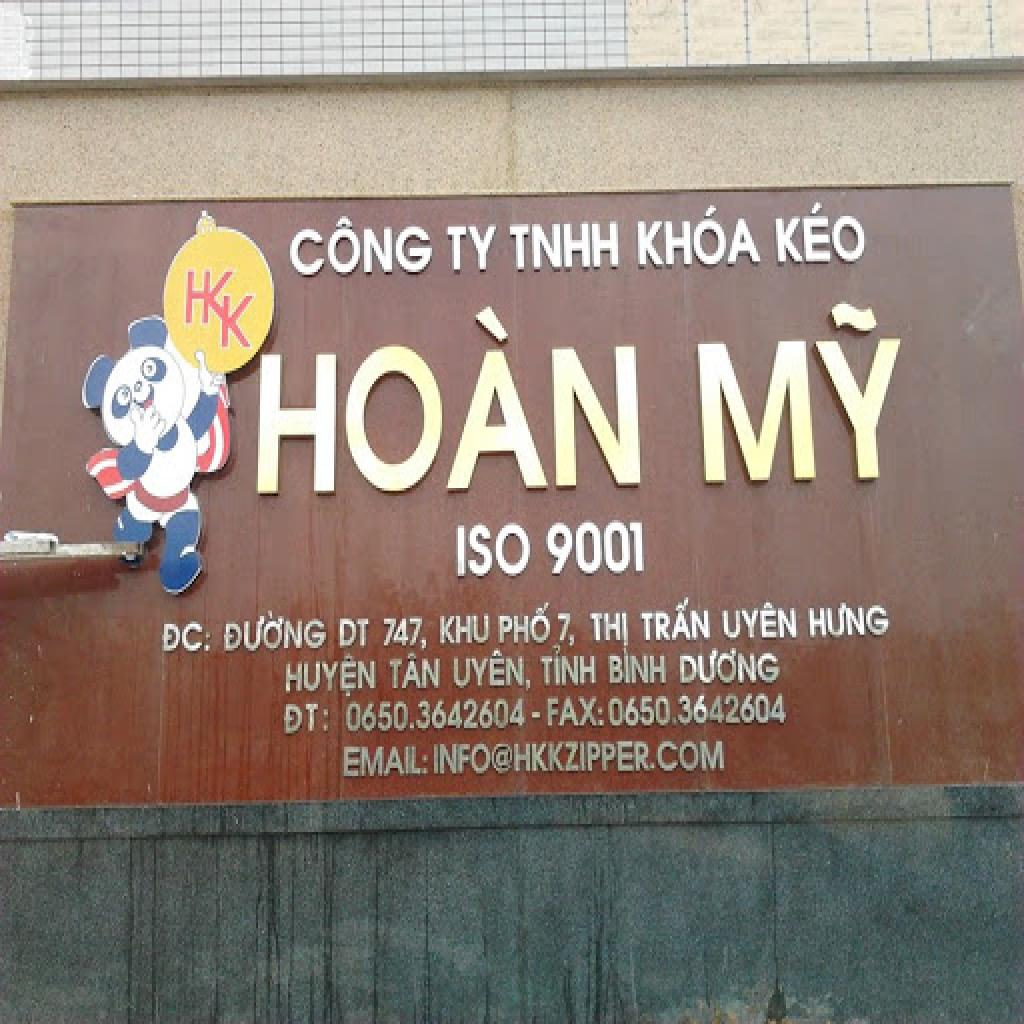text: (258, 301, 644, 499), (694, 296, 916, 488), (434, 741, 726, 776), (290, 216, 436, 280), (638, 203, 764, 269), (608, 693, 788, 731), (344, 699, 528, 736), (510, 221, 622, 275), (546, 522, 648, 578), (222, 608, 328, 656), (456, 523, 534, 581), (286, 653, 380, 699), (680, 648, 782, 688), (454, 648, 534, 696), (640, 595, 714, 645), (808, 600, 890, 643), (342, 744, 430, 781), (722, 602, 800, 642), (446, 226, 500, 274), (608, 645, 668, 688), (540, 645, 598, 688), (498, 603, 554, 645), (546, 696, 608, 731), (388, 650, 442, 690), (202, 270, 236, 326), (158, 621, 212, 656), (438, 613, 492, 648), (380, 616, 430, 653), (280, 701, 332, 736), (222, 296, 256, 349), (590, 613, 632, 651), (186, 269, 212, 328), (338, 619, 372, 648), (554, 613, 578, 648)
